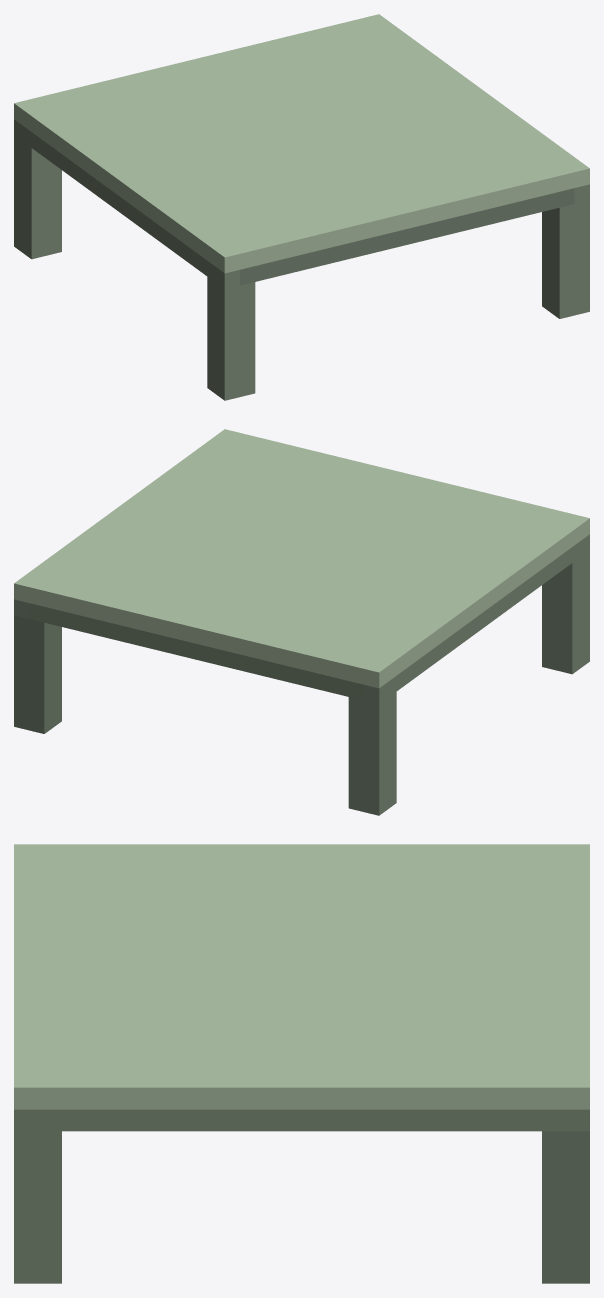
File: mesa_comedor_pequena_desgastada_01.glb
3 renders of one model, top to bottom at view 1: azimuth 30°, elevation 25°; view 2: azimuth 150°, elevation 25°; view 3: azimuth 270°, elevation 25°, orthographic. The views are drawn at different scales.
Parts seen in each view (by area): view 1: mesa_comedor_pequena_desgastada; view 2: mesa_comedor_pequena_desgastada; view 3: mesa_comedor_pequena_desgastada.
Boxes of the visible parts, x1,y1,x2,y2 form: mesa_comedor_pequena_desgastada: [14, 14, 589, 400]; mesa_comedor_pequena_desgastada: [14, 429, 589, 815]; mesa_comedor_pequena_desgastada: [14, 844, 589, 1283].
Size of the model in its own units: 2 by 0.75 by 2.
